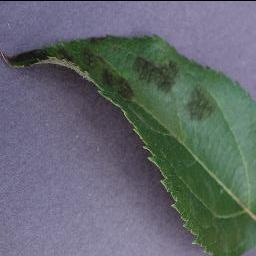apple healthy: (0, 30, 255, 255)
